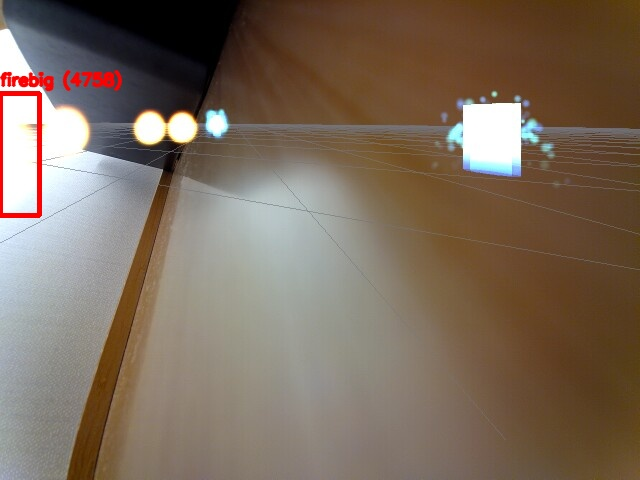firebig: (0, 93, 39, 215)
